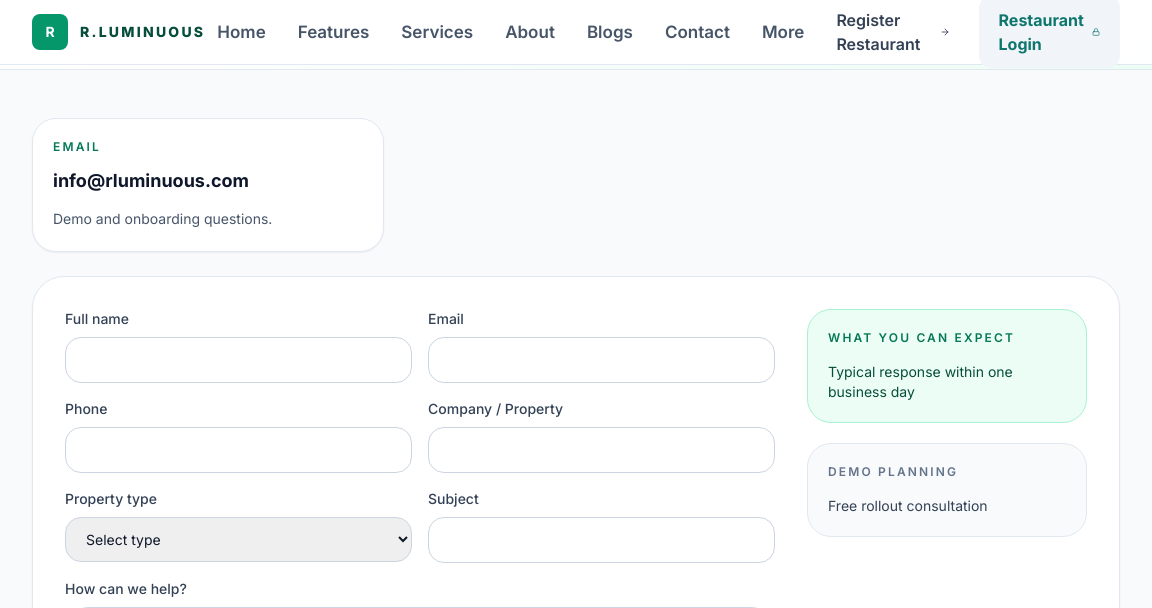
Contact page › submits a contact lead and shows the success state
(page scrolled)
Step 1. Type "Nadeesha Perera" into the field labelled "Full name" → (238, 360), box [65,337,412,383]
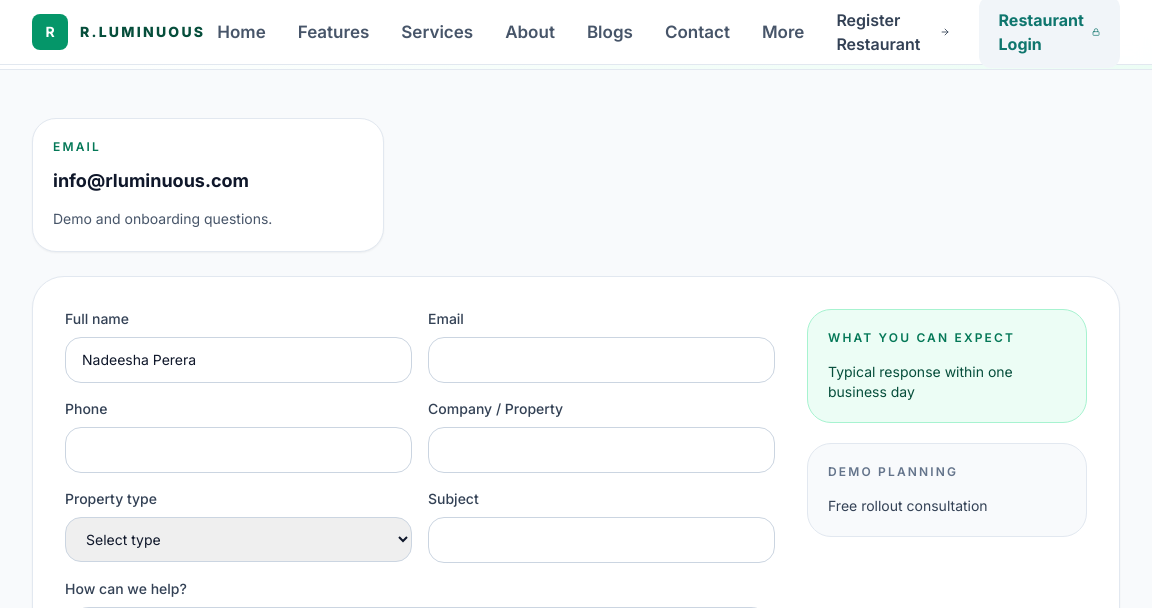
Step 2. Type "nadeesha@example.com" into the field labelled "Email" → (602, 360), box [428,337,775,383]
(page scrolled)
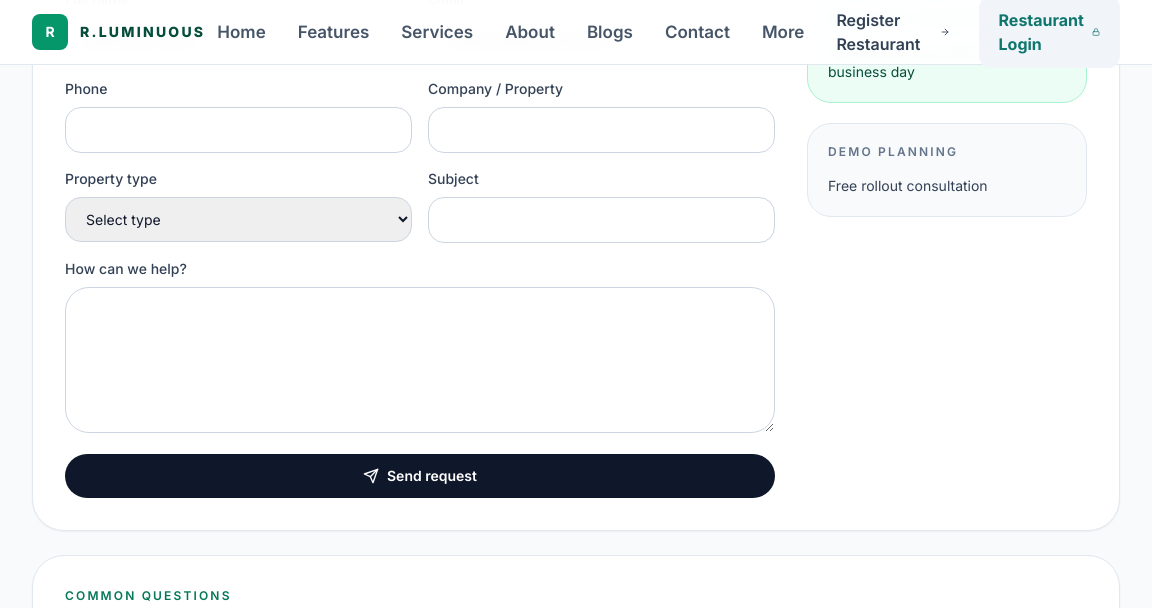
Step 3. Type "We need QR ordering, room service, and folio settlement for our property." into the text box labelled "How can we help?" → (420, 360), box [65,287,775,433]
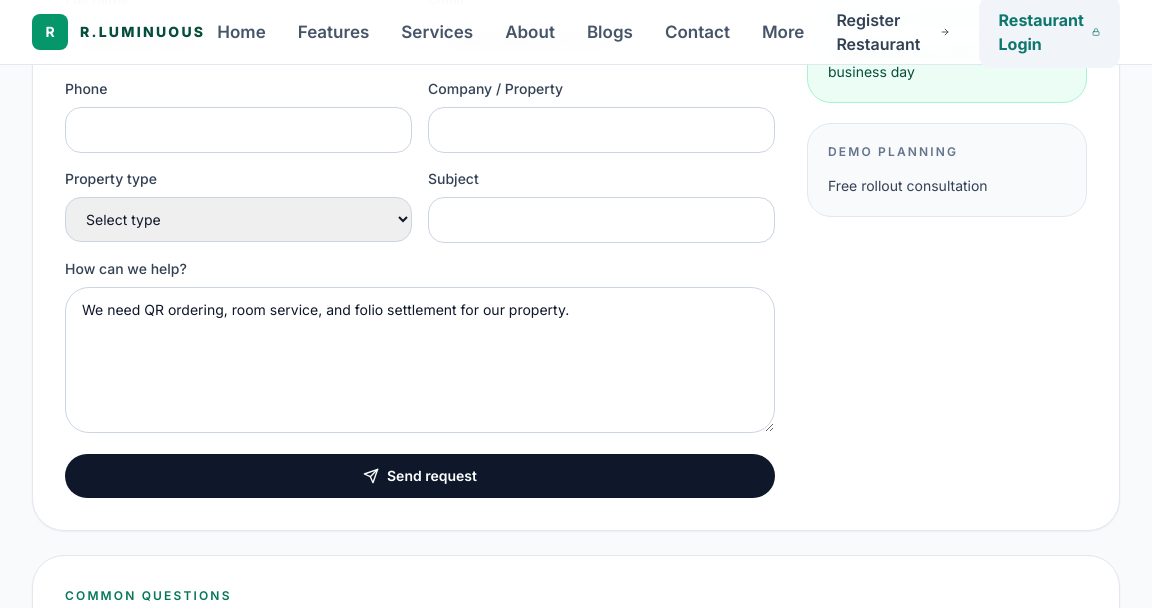
Step 4. Click the button "Send request" → (420, 476), box [65,454,775,498]
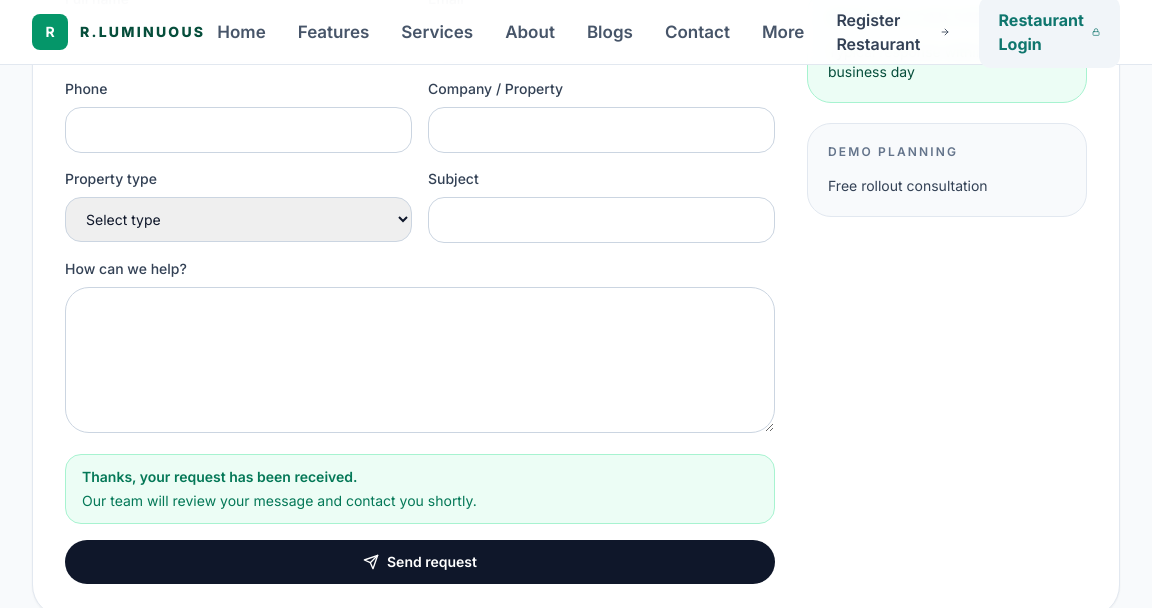
Expected: the text "Thanks, your request has been received." is shown, [82,468,358,485]
Expected: the text "Our team will review your message and contact you shortly." is shown, [82,492,477,509]
